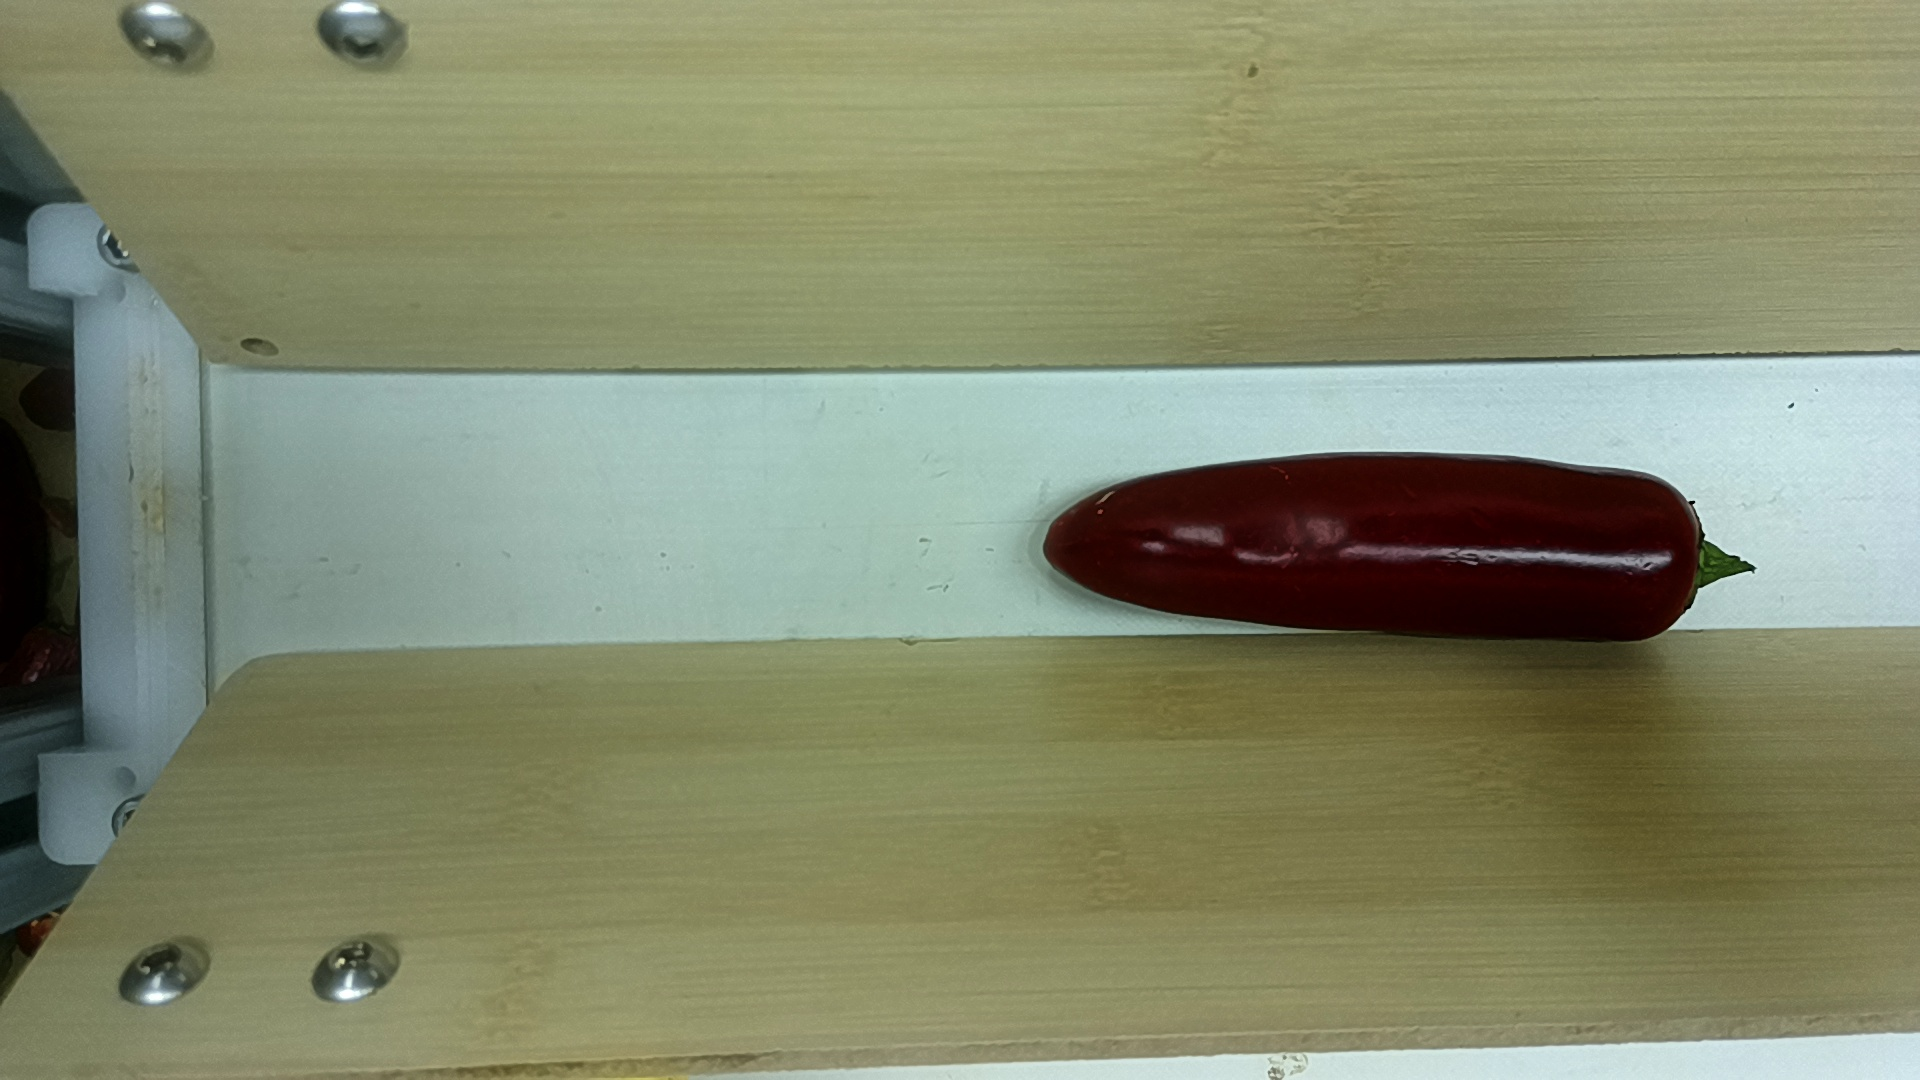Cut Point: (1633, 462, 1731, 640)
